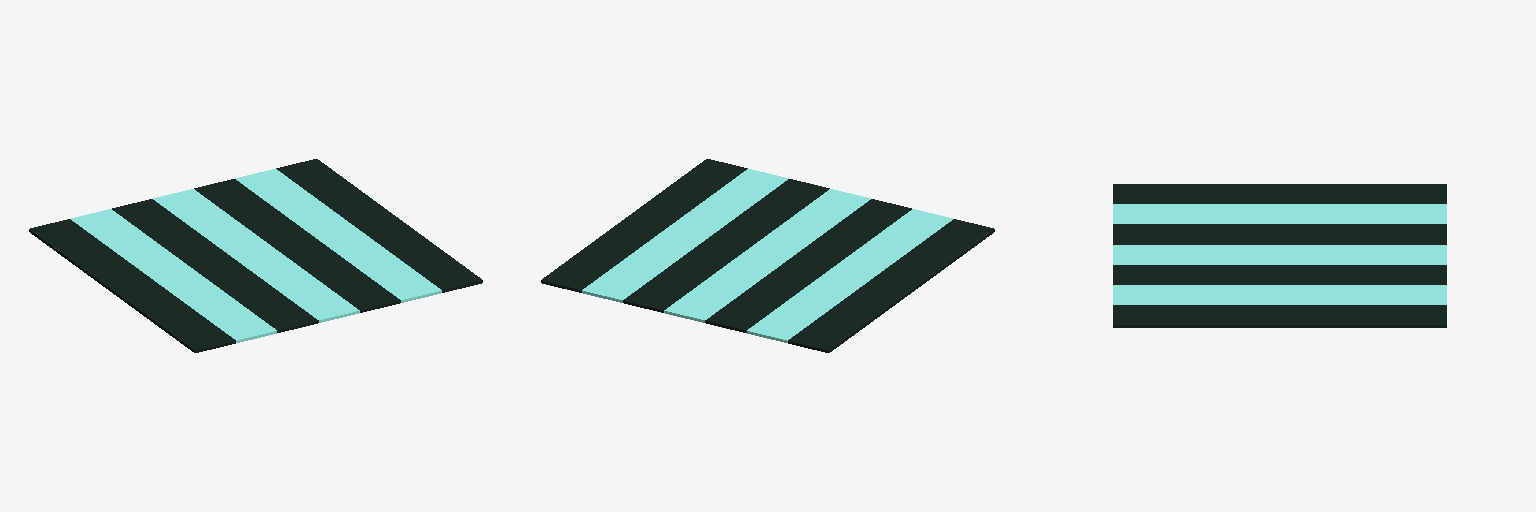
The model's file is carpet.obj.
3 renders of one model, left to right at view 1: azimuth 30°, elevation 25°; view 2: azimuth 150°, elevation 25°; view 3: azimuth 270°, elevation 25°, orthographic.
Parts seen in each view (by area): view 1: Carpet_グリッド; view 2: Carpet_グリッド; view 3: Carpet_グリッド.
Part boxes in pixels (bbox=[...]): Carpet_グリッド: bbox=[29, 159, 482, 352]; Carpet_グリッド: bbox=[541, 159, 994, 352]; Carpet_グリッド: bbox=[1113, 184, 1446, 327].
Bounding box in the file's own units: 2.4 × 0.022 × 2.4.